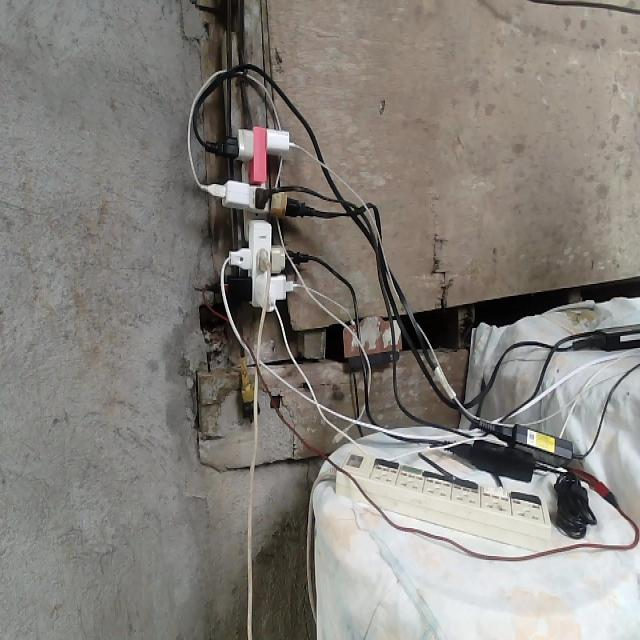-: (180, 75, 317, 357)
